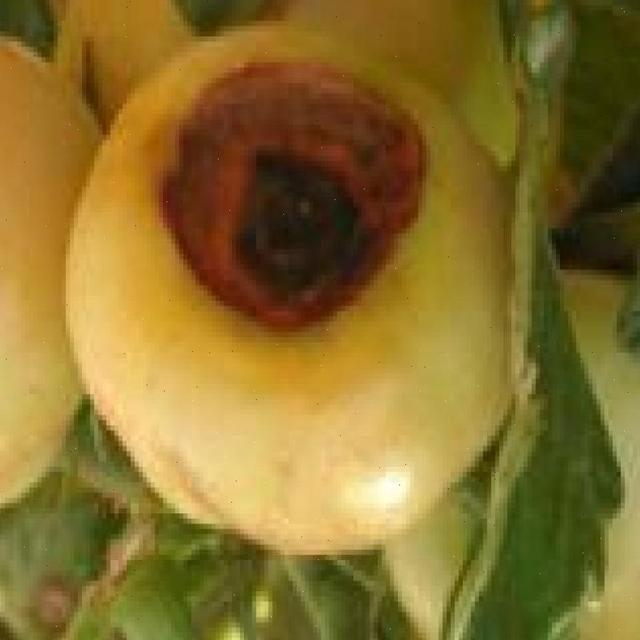Blossom End Rot Fruit: (77, 36, 293, 240)
